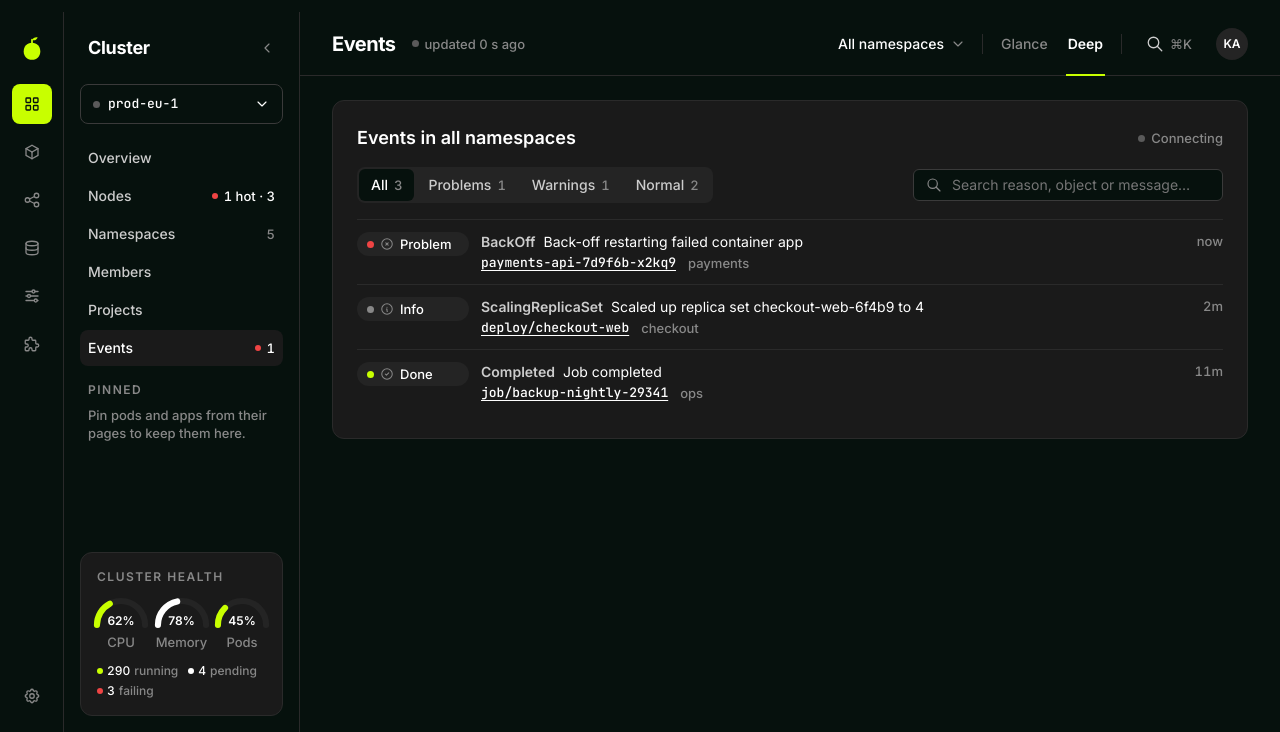
events page › filters by kind and searches
Expected: the list named "Events, newest first" is shown, [357, 219, 1223, 414]
Step 1. Click the radio button labelled "Problems 1" → coordinates (467, 185), box [416, 169, 518, 201]
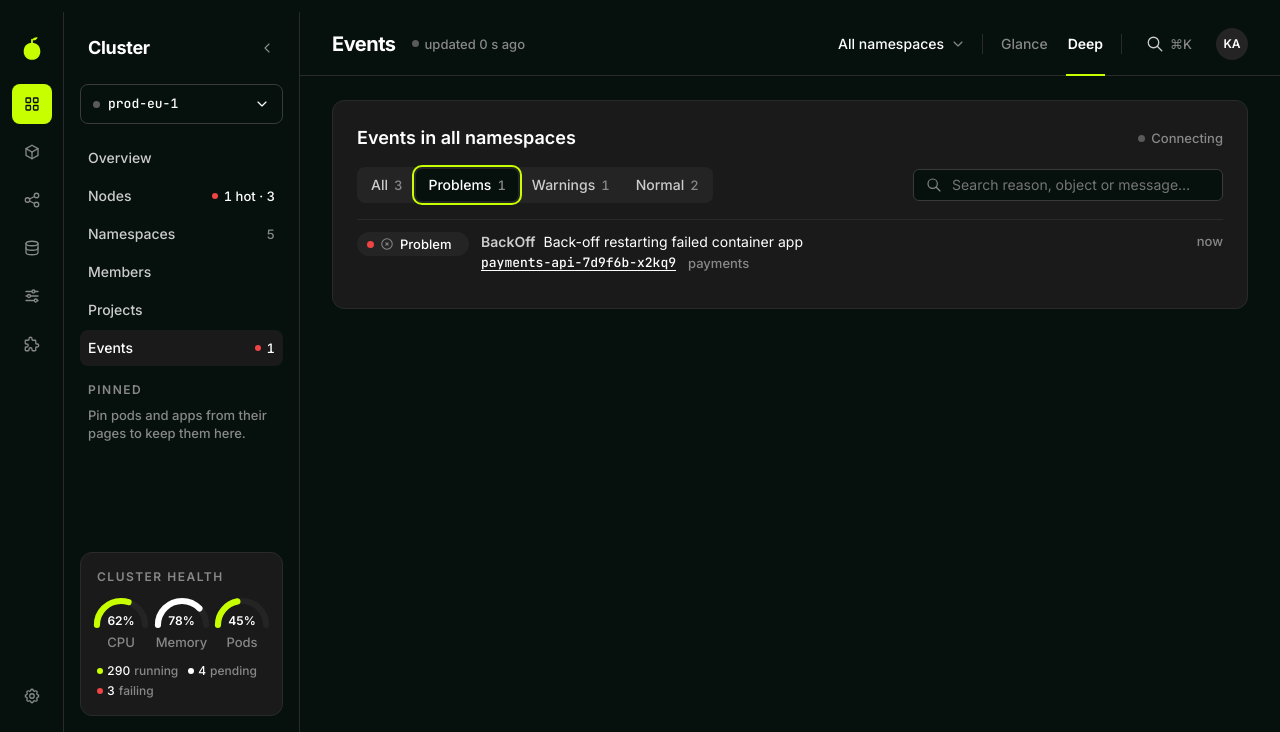
Step 2. Click the radio button labelled "All 3" → coordinates (387, 185), box [359, 169, 414, 201]
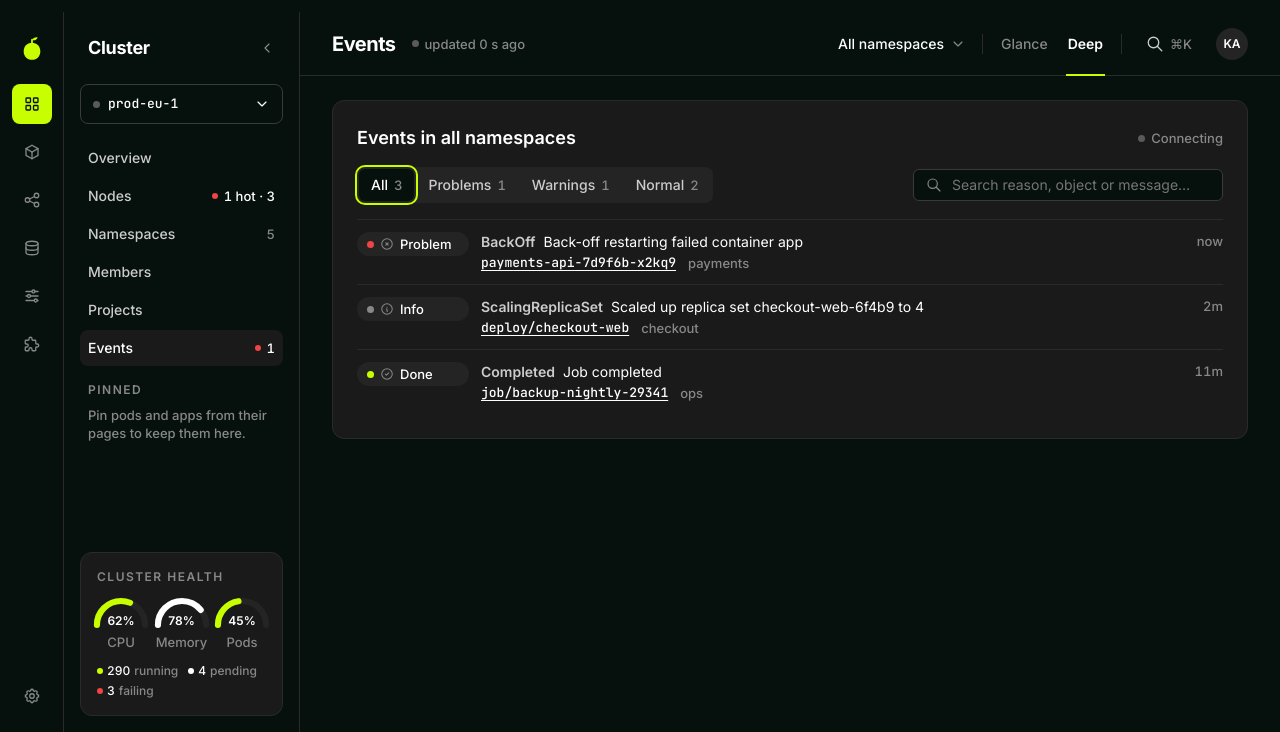
Step 3. Type "backup" into the search field named "Search events" → coordinates (1080, 185), box [950, 174, 1210, 196]
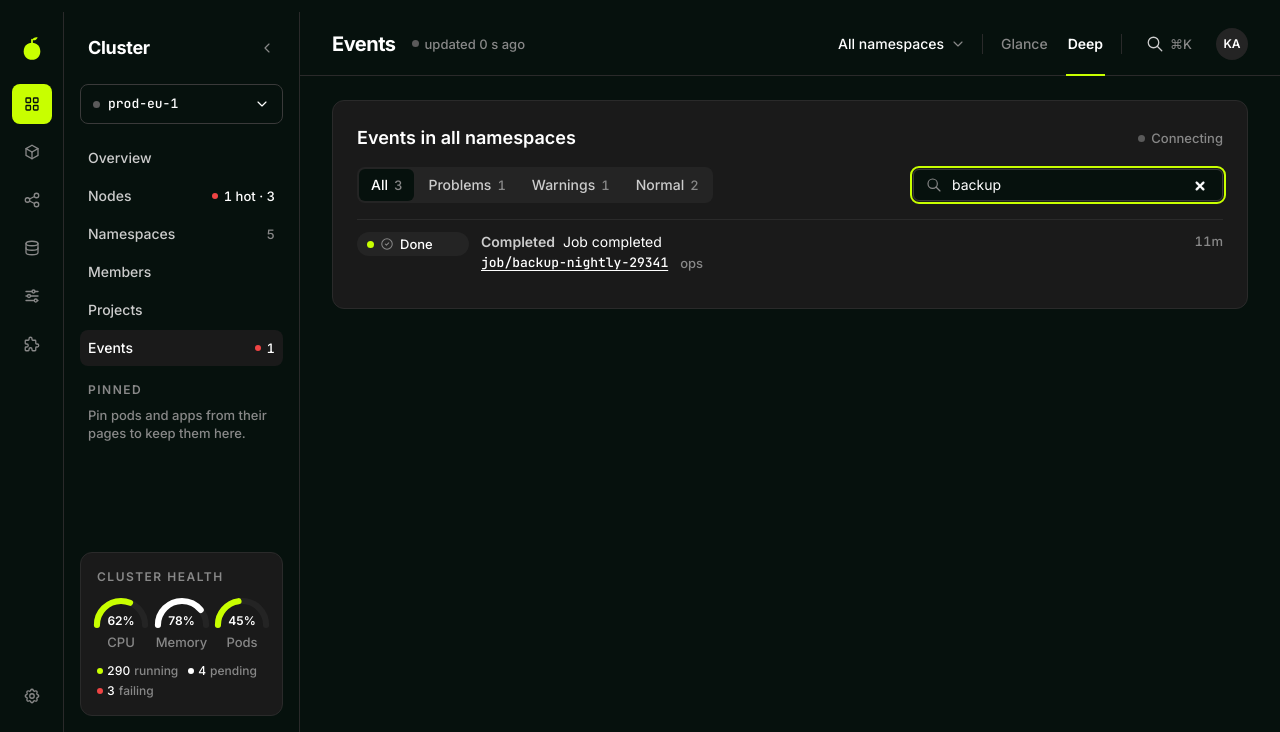
Now the text "Job completed" is shown, box [563, 233, 662, 250]
Step 4. Type "zzz" into the search field named "Search events" → coordinates (1080, 185), box [950, 174, 1210, 196]
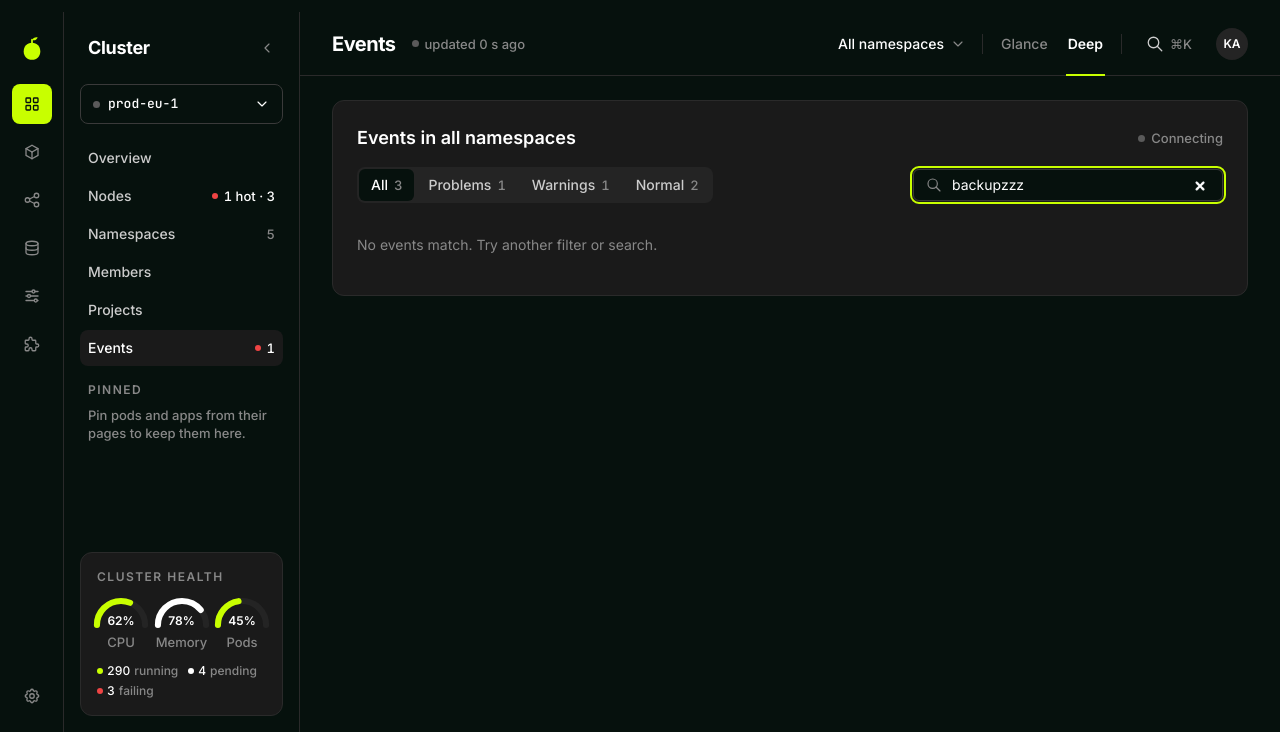
Now the text "No events match. Try another filter or search." is shown, box [357, 236, 657, 253]
